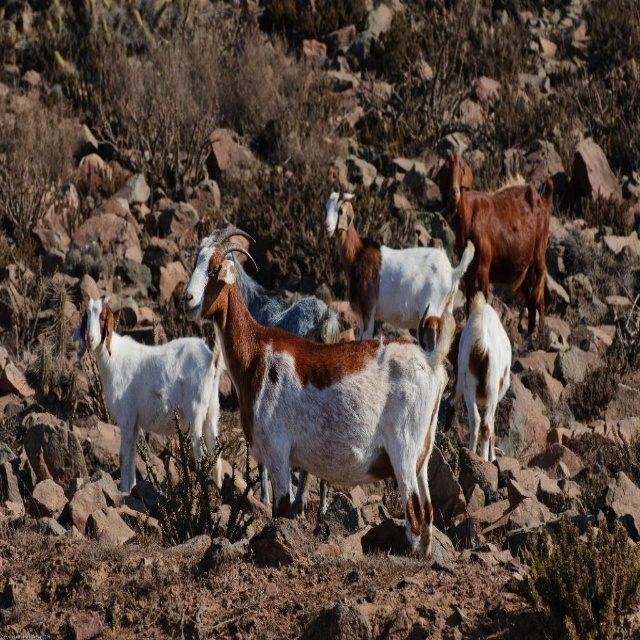Goat: (74, 155, 554, 561)
